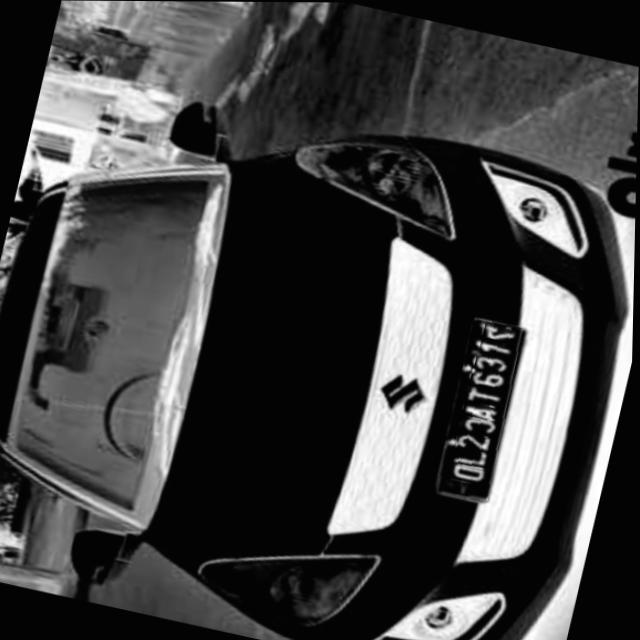1: (480, 336, 517, 356)
2: (457, 430, 493, 453)
3: (476, 350, 511, 373)
4: (484, 321, 518, 341)
6: (471, 366, 508, 388)
A: (464, 398, 504, 420)
C: (463, 414, 498, 435)
D: (451, 461, 488, 482)
IND: (441, 474, 473, 494)
Indian_registered: (439, 315, 524, 498)
L: (452, 445, 491, 468)
T: (465, 381, 505, 405)
